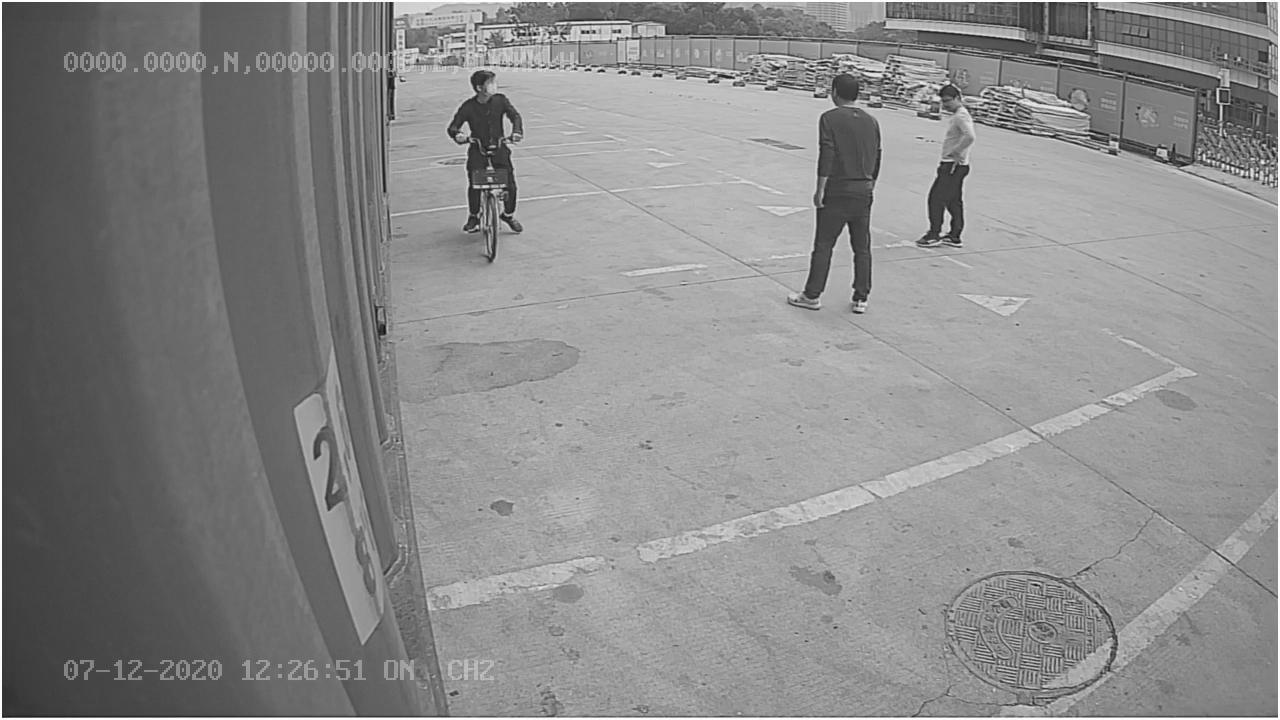person: (779, 69, 885, 315)
